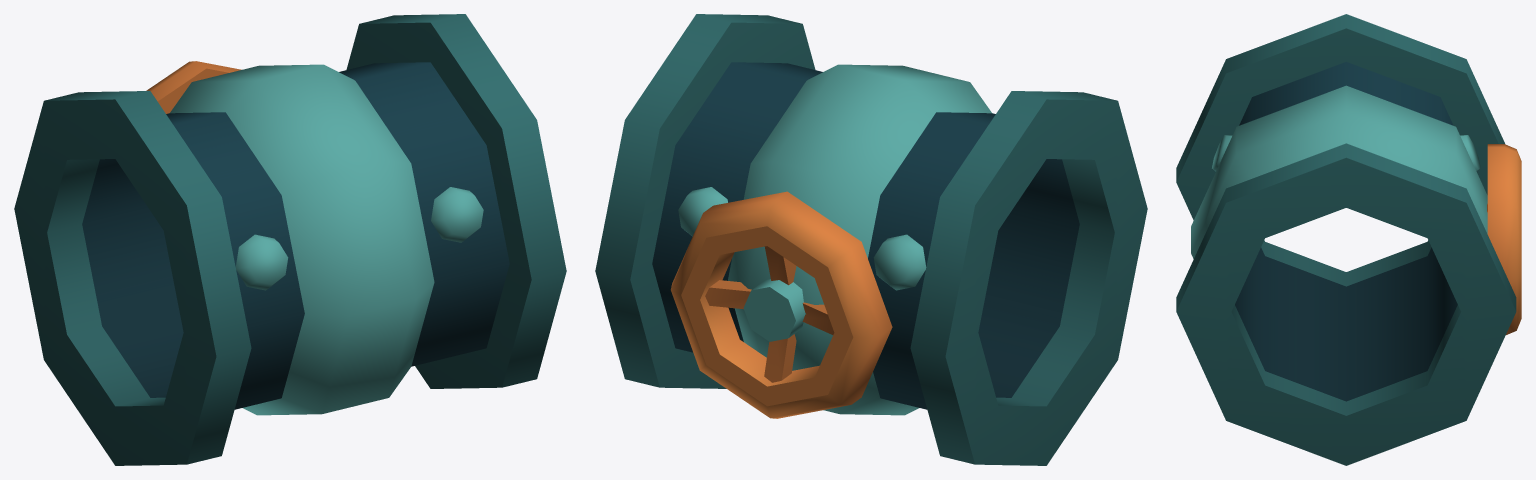
The model's file is pipe-large-valve.obj.
3 renders of one model, left to right at view 1: azimuth 30°, elevation 25°; view 2: azimuth 150°, elevation 25°; view 3: azimuth 270°, elevation 25°, orthographic. The views are drawn at different scales.
Visible parts, largest first — view 1: pipe-large-valve; view 2: pipe-large-valve; view 3: pipe-large-valve.
Part boxes in pixels (left/top/right/bottom): pipe-large-valve: left=14, top=14, right=566, bottom=465; pipe-large-valve: left=595, top=14, right=1147, bottom=465; pipe-large-valve: left=1176, top=14, right=1521, bottom=465.
Size of the model in its own units: 1 by 1 by 1.02.
